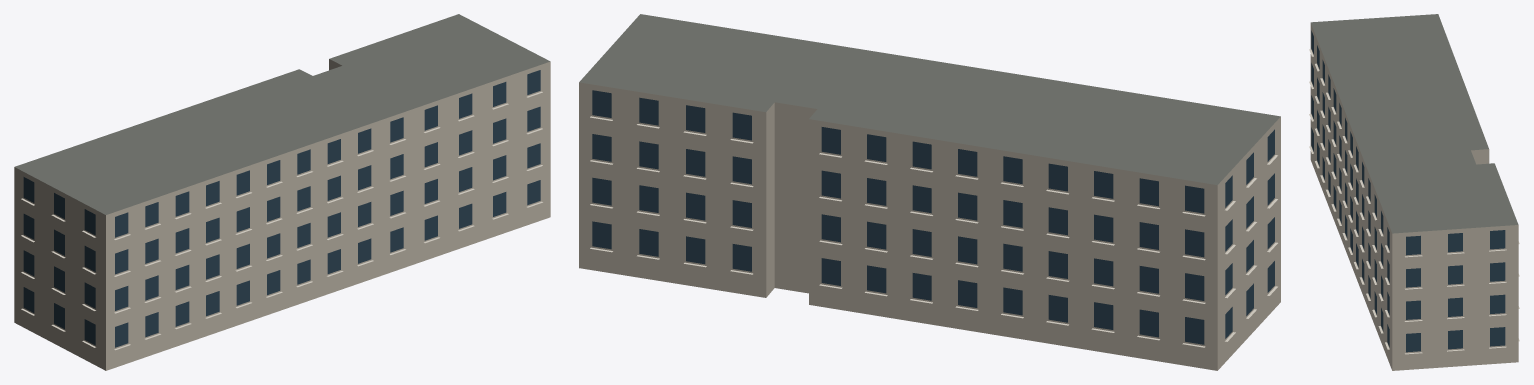
The picture shows the model from 3 angles, left to right: view 1: azimuth 30°, elevation 25°; view 2: azimuth 150°, elevation 25°; view 3: azimuth 270°, elevation 25°; orthographic projection. The views are drawn at different scales.
Parts seen in each view (by area): view 1: Footprint 0, Inferred window bays, Window sills; view 2: Footprint 0, Inferred window bays, Window sills; view 3: Footprint 0, Inferred window bays, Window sills.
Part boxes in pixels (box(x1,y1,x2,y2)): Footprint 0: box(14, 14, 550, 370); Inferred window bays: box(23, 70, 540, 347); Window sills: box(21, 91, 542, 350); Footprint 0: box(579, 14, 1280, 370); Inferred window bays: box(592, 90, 1274, 344); Window sills: box(590, 116, 1277, 347); Footprint 0: box(1310, 14, 1518, 370); Inferred window bays: box(1311, 30, 1505, 352); Window sills: box(1309, 49, 1519, 354).
Bounding box in the file's own units: 42.32 × 12.31 × 17.11.
